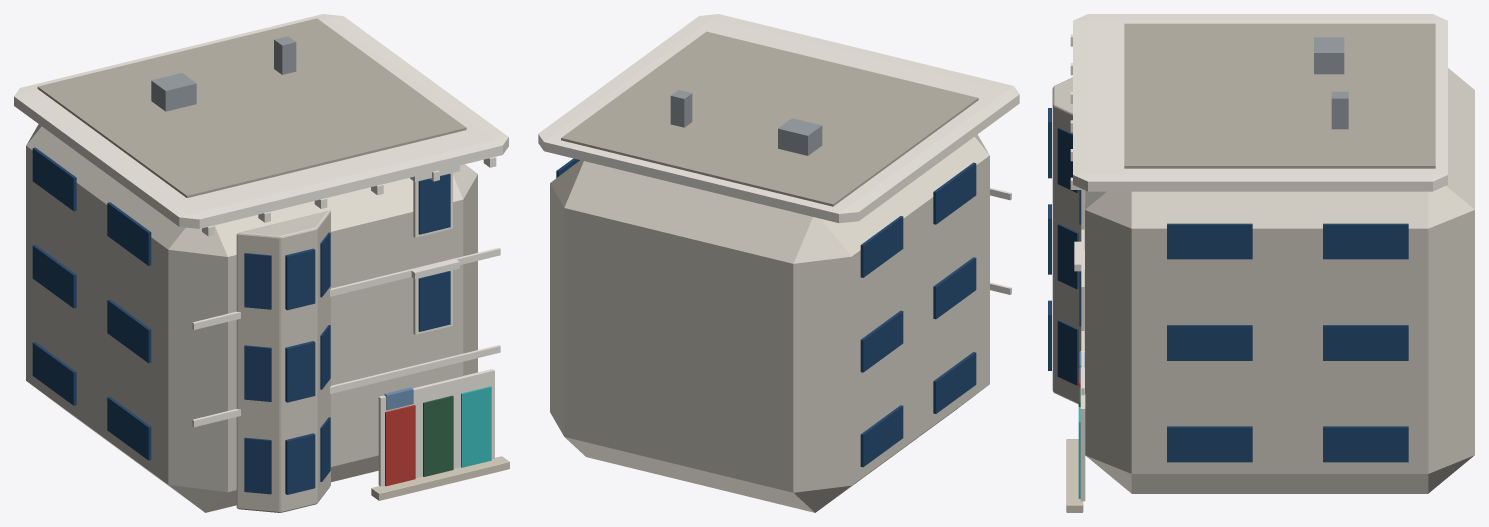
Rendered from edw_w11_f3.glb.
3 renders of one model, left to right at view 1: azimuth 30°, elevation 25°; view 2: azimuth 150°, elevation 25°; view 3: azimuth 270°, elevation 25°, orthographic. The views are drawn at different scales.
Visible parts, largest first — view 1: walls, roofslab, corn, bay, door.001, door, door.002, belt, lstep, wgl, wgl.001, bw.001 (+22 smaller); view 2: walls, roofslab, corn, sb.002, sb.006, sb, sb.004, sb.008, sb.010, hvac, pipe; view 3: walls, roofslab, corn, bay, sb.001, sb.003, sb.009, sb.011, sb.005, sb.007, bwa.001, hvac (+5 smaller).
Boxes of the visible parts, x1=… form: walls: x1=26, y1=124, x2=477, y2=512; roofslab: x1=37, y1=18, x2=466, y2=197; corn: x1=14, y1=14, x2=508, y2=228; bay: x1=236, y1=210, x2=330, y2=512; door.001: x1=423, y1=395, x2=453, y2=476; door: x1=385, y1=405, x2=415, y2=486; door.002: x1=461, y1=386, x2=491, y2=467; belt: x1=192, y1=345, x2=500, y2=427; lstep: x1=371, y1=456, x2=509, y2=500; wgl: x1=418, y1=271, x2=450, y2=331; wgl.001: x1=418, y1=173, x2=450, y2=234; bw.001: x1=285, y1=341, x2=315, y2=402; walls: x1=550, y1=134, x2=989, y2=512; roofslab: x1=561, y1=31, x2=978, y2=206; corn: x1=538, y1=14, x2=1019, y2=223; sb.002: x1=860, y1=405, x2=903, y2=467; sb.006: x1=860, y1=310, x2=903, y2=372; sb: x1=933, y1=352, x2=976, y2=413; sb.004: x1=933, y1=257, x2=976, y2=319; sb.008: x1=933, y1=162, x2=976, y2=224; sb.010: x1=860, y1=216, x2=903, y2=277; hvac: x1=778, y1=118, x2=822, y2=155; pipe: x1=670, y1=90, x2=692, y2=127; walls: x1=1085, y1=68, x2=1474, y2=493; roofslab: x1=1124, y1=23, x2=1435, y2=168; corn: x1=1073, y1=14, x2=1447, y2=191; bay: x1=1052, y1=77, x2=1084, y2=404; sb.001: x1=1167, y1=426, x2=1252, y2=462; sb.003: x1=1323, y1=426, x2=1408, y2=462; sb.009: x1=1167, y1=223, x2=1252, y2=259; sb.011: x1=1323, y1=223, x2=1408, y2=259; sb.005: x1=1167, y1=325, x2=1252, y2=360; sb.007: x1=1323, y1=325, x2=1408, y2=360; bwa.001: x1=1057, y1=320, x2=1078, y2=385; hvac: x1=1314, y1=37, x2=1344, y2=74.
Size of the model in its own units: 11.7 by 12.05 by 12.59.
